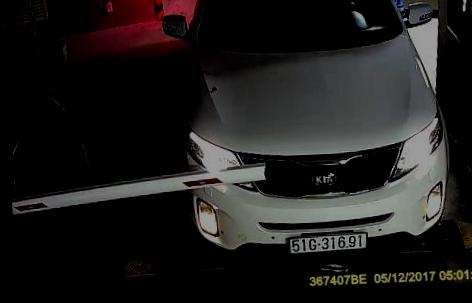License_Plate: (288, 229, 366, 254)
